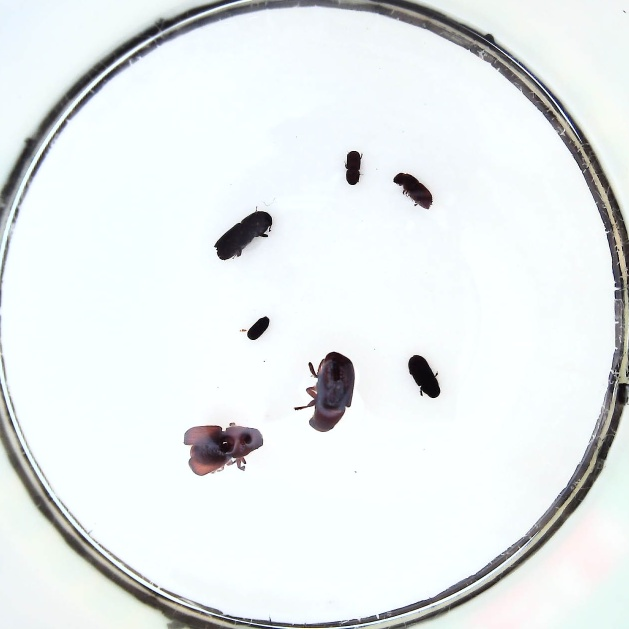acuminatus: (342, 151, 364, 186)
armandi: (406, 352, 441, 401)
boerner: (212, 210, 272, 261)
coleoptera: (243, 316, 269, 345)
leconte: (293, 350, 357, 432), (180, 419, 264, 477)
linnaeus: (393, 171, 434, 212)
